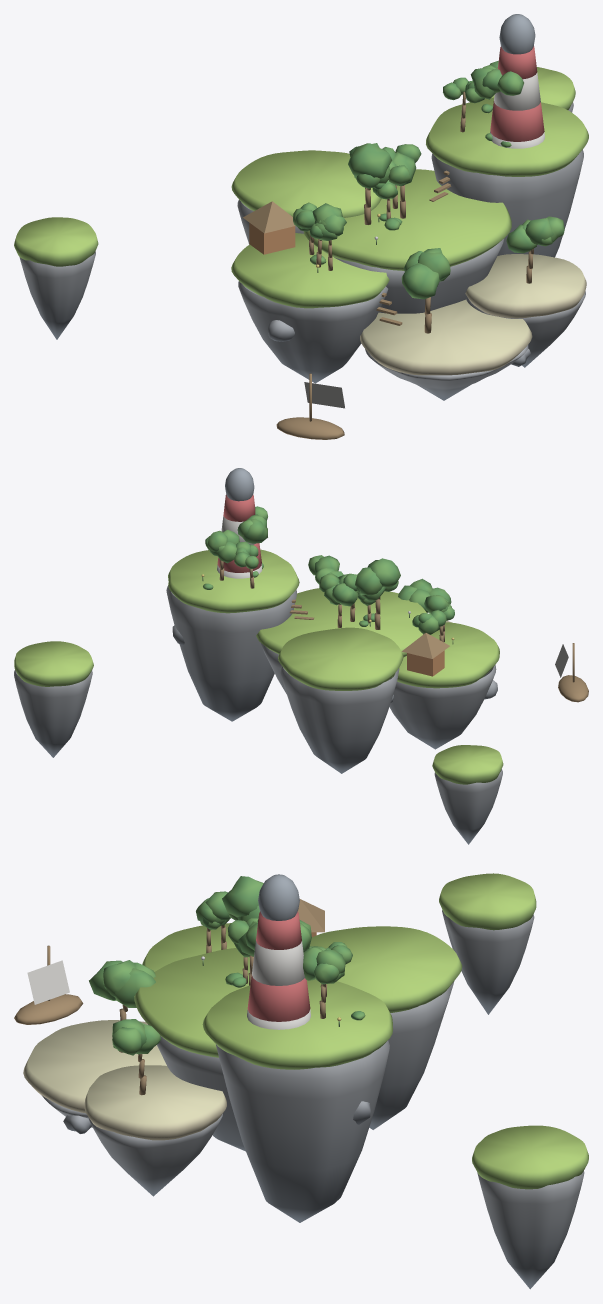
File: sunlit_shores_v3.glb
3 renders of one model, top to bottom at view 1: azimuth 30°, elevation 25°; view 2: azimuth 150°, elevation 25°; view 3: azimuth 270°, elevation 25°, orthographic. The views are drawn at different scales.
Parts seen in each view (by area): view 1: Center_grass, Beach_grass, Right_grass, Left_grass, Left_rock, Back_grass, Mid_grass, Right_rock, Far1_rock, Far1_grass, Center_rock, Cylinder.001 (+14 smaller); view 2: Right_rock, Back_rock, Back_grass, Right_grass, Center_grass, Left_rock, Left_grass, Far2_rock, Far2_grass, Far1_rock, Far1_grass, LH_dome (+6 smaller); view 3: Right_rock, Right_grass, Back_grass, Mid_grass, Center_grass, Far2_rock, Beach_grass, Far2_grass, Back_rock, Far1_rock, Far1_grass, Mid_rock (+14 smaller).
Part boxes in pixels (x1,y1,x2,y2): Center_grass: (303, 169, 511, 270); Beach_grass: (360, 299, 532, 375); Right_grass: (426, 97, 588, 176); Left_grass: (231, 233, 389, 308); Left_rock: (238, 281, 388, 383); Back_grass: (231, 150, 381, 217); Mid_grass: (465, 254, 586, 318); Right_rock: (431, 149, 583, 257); Far1_rock: (19, 251, 95, 339); Far1_grass: (14, 217, 98, 266); Center_rock: (334, 238, 504, 313); Cylinder.001: (490, 101, 544, 141); Right_rock: (166, 585, 296, 721); Back_rock: (280, 666, 399, 773); Back_grass: (278, 627, 403, 690); Right_grass: (168, 549, 299, 613); Center_grass: (256, 588, 426, 656); Left_rock: (388, 664, 496, 749); Left_grass: (392, 622, 499, 688); Far2_rock: (14, 670, 92, 757); Far2_grass: (14, 641, 93, 686); Far1_rock: (434, 769, 502, 844); Far1_grass: (432, 745, 503, 784); LH_dome: (225, 468, 254, 501); Right_rock: (216, 1040, 389, 1222); Right_grass: (202, 979, 392, 1069); Back_grass: (310, 926, 462, 1012); Mid_grass: (84, 1065, 226, 1140); Center_grass: (134, 948, 249, 1057); Far2_rock: (477, 1171, 584, 1289); Beach_grass: (23, 1020, 166, 1113); Far2_grass: (472, 1125, 588, 1189); Back_rock: (369, 981, 454, 1129); Far1_rock: (442, 910, 534, 1014); Far1_grass: (439, 873, 536, 930); Mid_rock: (88, 1113, 222, 1196).
Bounding box in the file's own units: 36.13 × 18.3 × 27.46.
